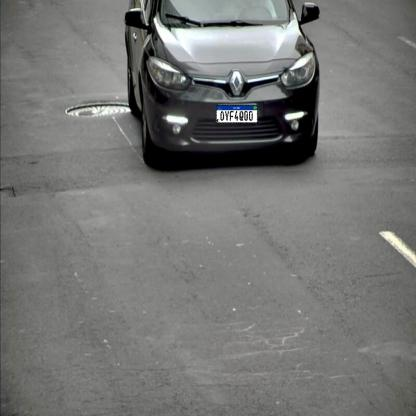PlacaM: (216, 105, 258, 123)
